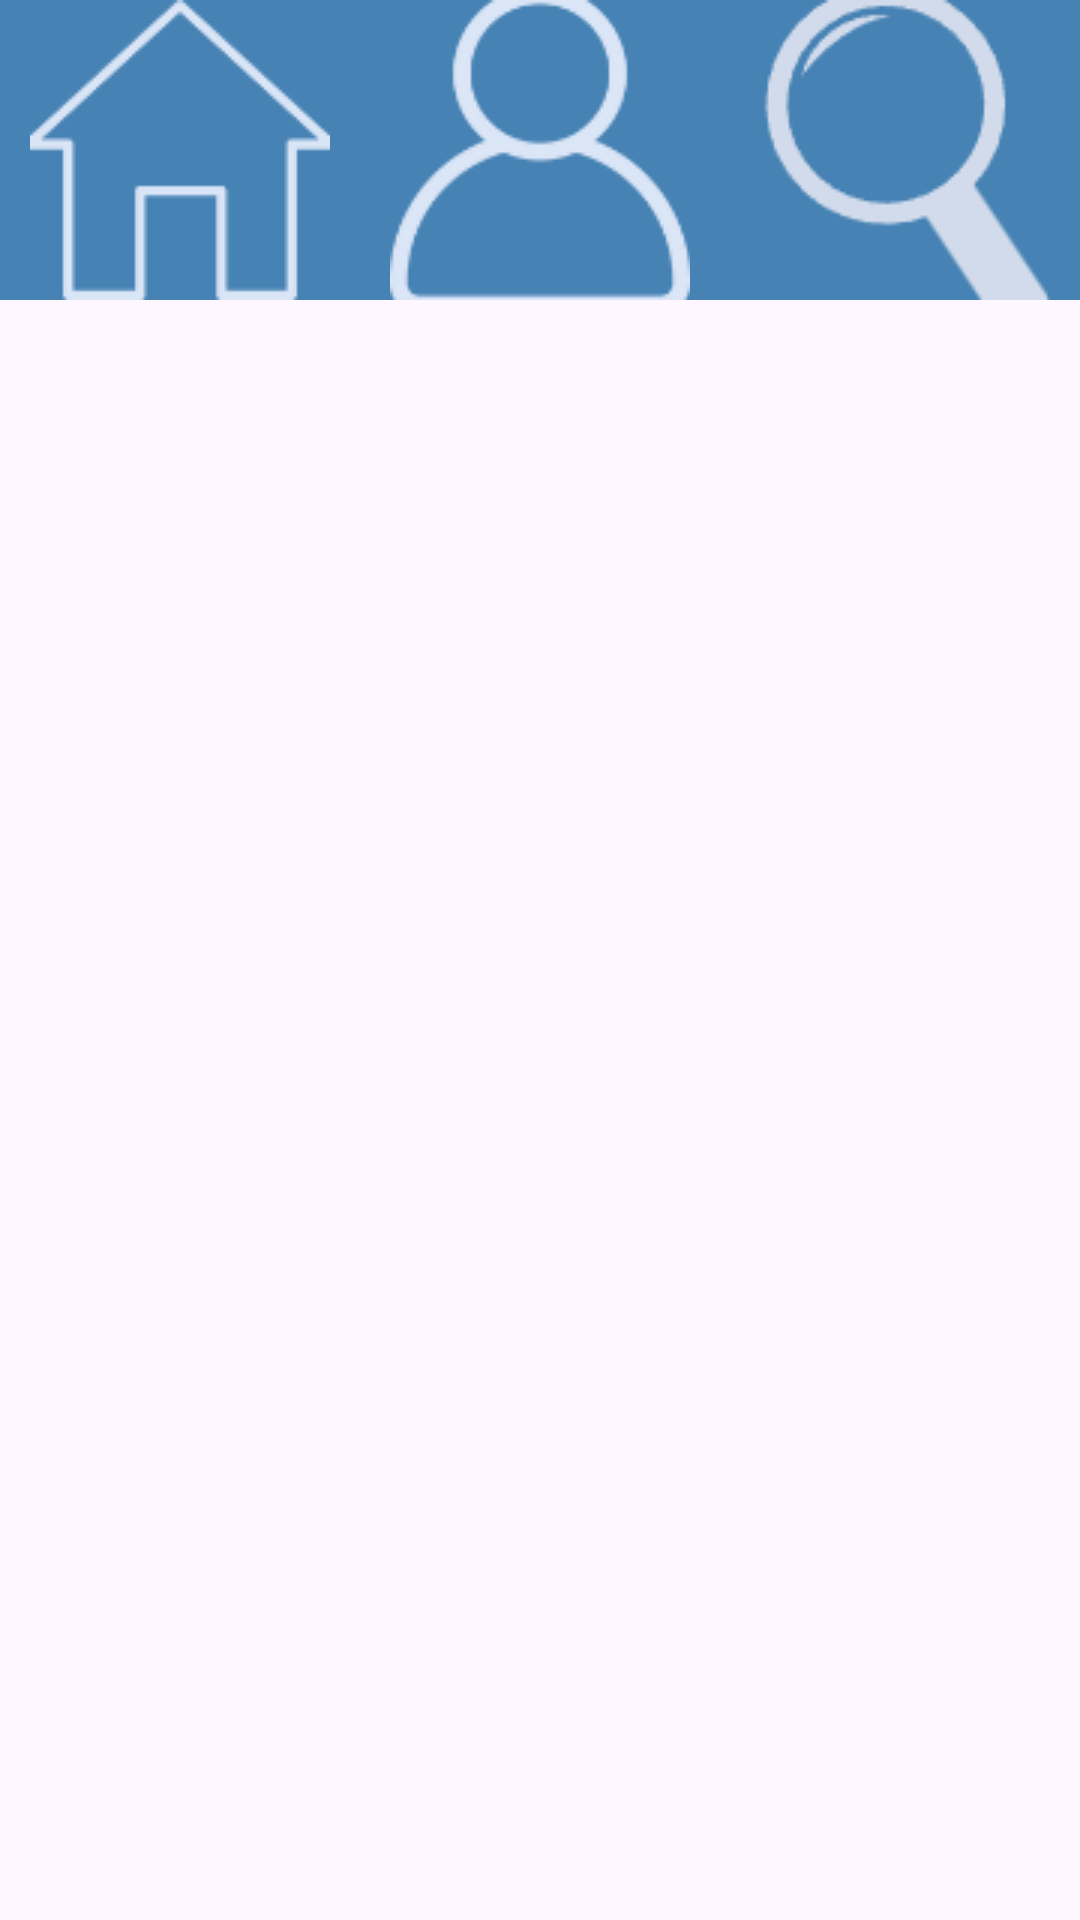

Where to tap for icons on this 1080px×1920px app screen, as (x,y):
Home Icon: (180,150)
Profile Icon: (540,150)
Search Icon: (900,150)
